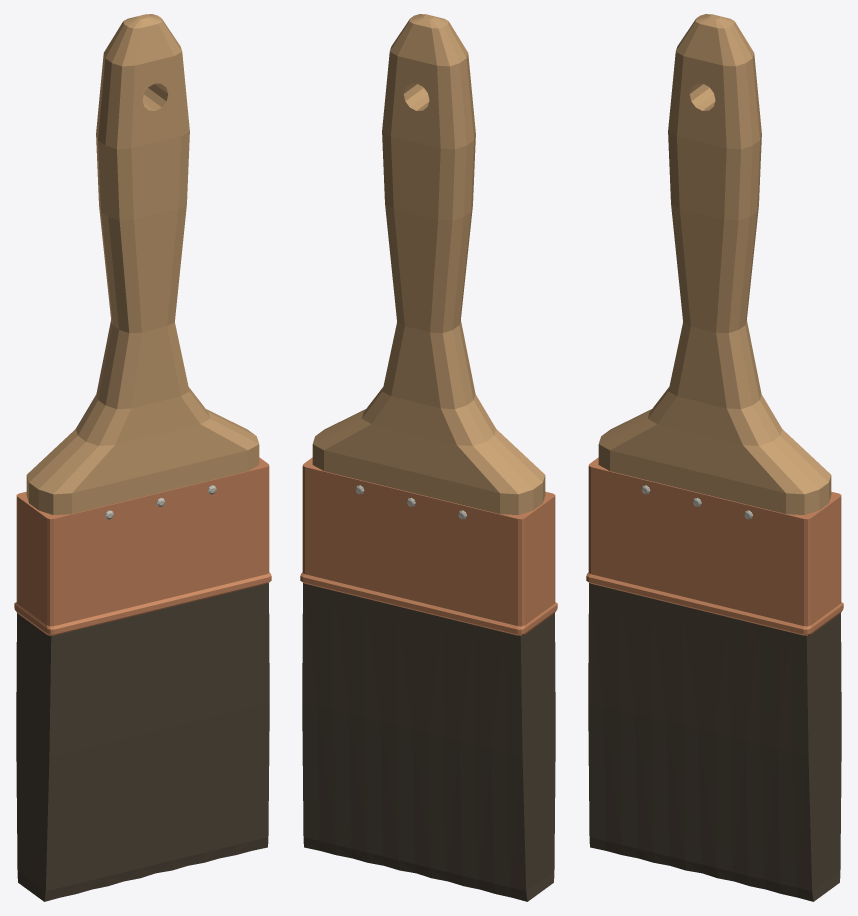
3 views of the same model, side by side, from view 1: azimuth 30°, elevation 25°; view 2: azimuth 150°, elevation 25°; view 3: azimuth 330°, elevation 25° (orthographic).
Parts seen in each view (by area): view 1: Closed_finite_synthetic_bristle_bundle_with_restrained_fluti, Pierced_beavertail_hardwood_handle, Closed_copper_ferrule_with_rolled_horizontal_ribs; view 2: Closed_finite_synthetic_bristle_bundle_with_restrained_fluti, Pierced_beavertail_hardwood_handle, Closed_copper_ferrule_with_rolled_horizontal_ribs; view 3: Closed_finite_synthetic_bristle_bundle_with_restrained_fluti, Pierced_beavertail_hardwood_handle, Closed_copper_ferrule_with_rolled_horizontal_ribs.
Boxes of the visible parts, left/top/right/bottom form: Closed_finite_synthetic_bristle_bundle_with_restrained_fluti: left=16, top=583, right=269, bottom=901; Pierced_beavertail_hardwood_handle: left=26, top=14, right=259, bottom=515; Closed_copper_ferrule_with_rolled_horizontal_ribs: left=14, top=457, right=271, bottom=635; Closed_finite_synthetic_bristle_bundle_with_restrained_fluti: left=302, top=583, right=555, bottom=901; Pierced_beavertail_hardwood_handle: left=312, top=14, right=545, bottom=515; Closed_copper_ferrule_with_rolled_horizontal_ribs: left=300, top=457, right=557, bottom=635; Closed_finite_synthetic_bristle_bundle_with_restrained_fluti: left=588, top=583, right=841, bottom=901; Pierced_beavertail_hardwood_handle: left=598, top=14, right=831, bottom=515; Closed_copper_ferrule_with_rolled_horizontal_ribs: left=586, top=457, right=843, bottom=635.
Size of the model in its own units: 0.0762 by 0.2762 by 0.0222.
